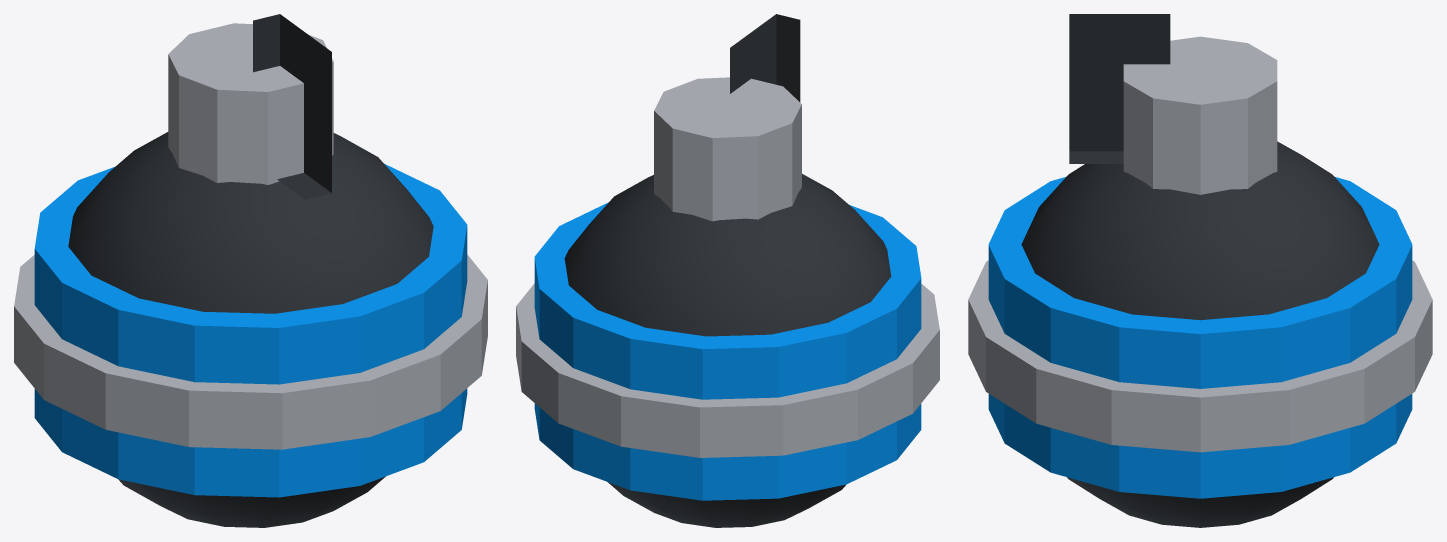
File: emp_grenade.obj
3 views of the same model, side by side, from view 1: azimuth 30°, elevation 25°; view 2: azimuth 150°, elevation 25°; view 3: azimuth 270°, elevation 25° (orthographic). The views are drawn at different scales.
Parts seen in each view (by area): view 1: EMPGrenade; view 2: EMPGrenade; view 3: EMPGrenade.
Boxes of the visible parts, x1,y1,x2,y2 form: EMPGrenade: [14, 14, 487, 527]; EMPGrenade: [516, 14, 939, 527]; EMPGrenade: [968, 14, 1432, 527].
Size of the model in its own units: 0.46 by 0.535 by 0.46.
